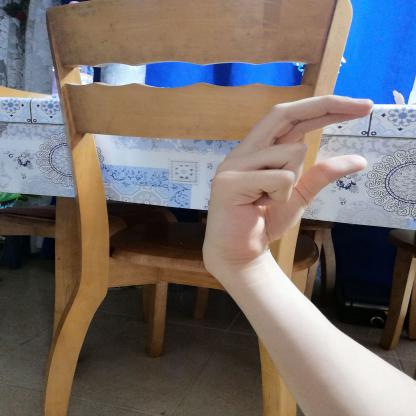DHELL: (185, 86, 390, 270)
